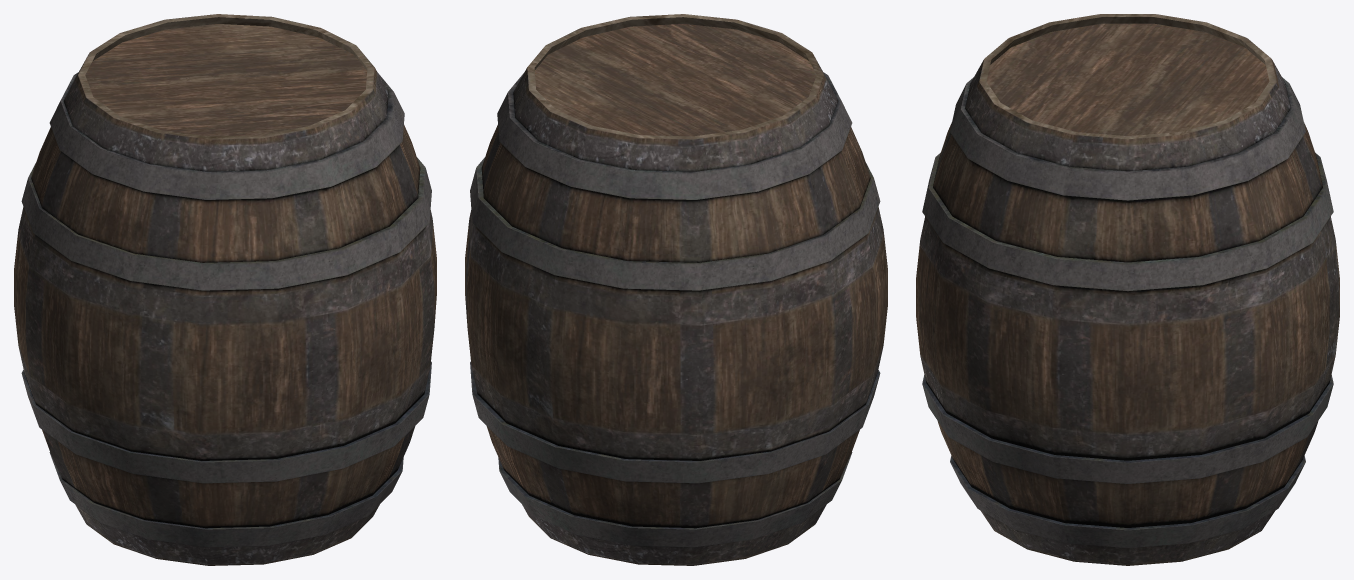
Rendered from Barrel.fbx.
3 renders of one model, left to right at view 1: azimuth 30°, elevation 25°; view 2: azimuth 150°, elevation 25°; view 3: azimuth 270°, elevation 25°, orthographic.
Parts seen in each view (by area): view 1: hjtr6; view 2: hjtr6; view 3: hjtr6.
Boxes of the visible parts, box(x1,y1,x2,y2) form: hjtr6: box(14, 14, 436, 565); hjtr6: box(465, 14, 887, 565); hjtr6: box(916, 14, 1339, 565).
Bounding box in the file's own units: 54.21 × 60.48 × 54.44.
